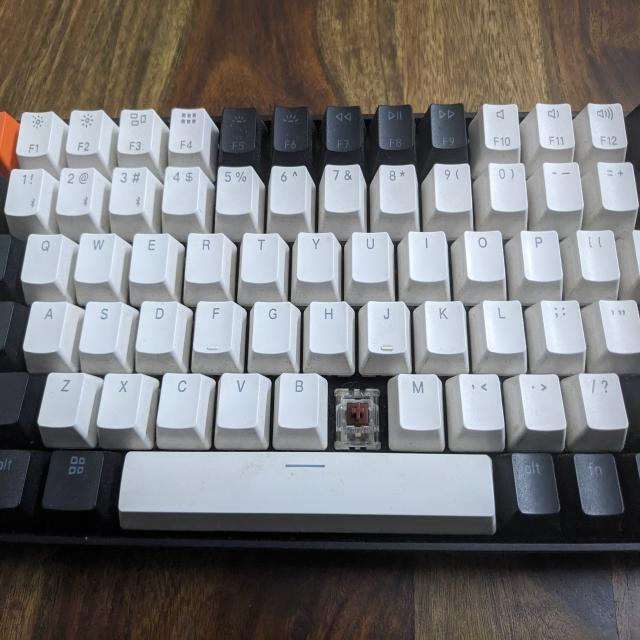C: (337, 382, 377, 446)
